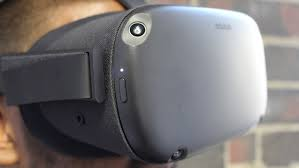oculus: (26, 5, 270, 164)
